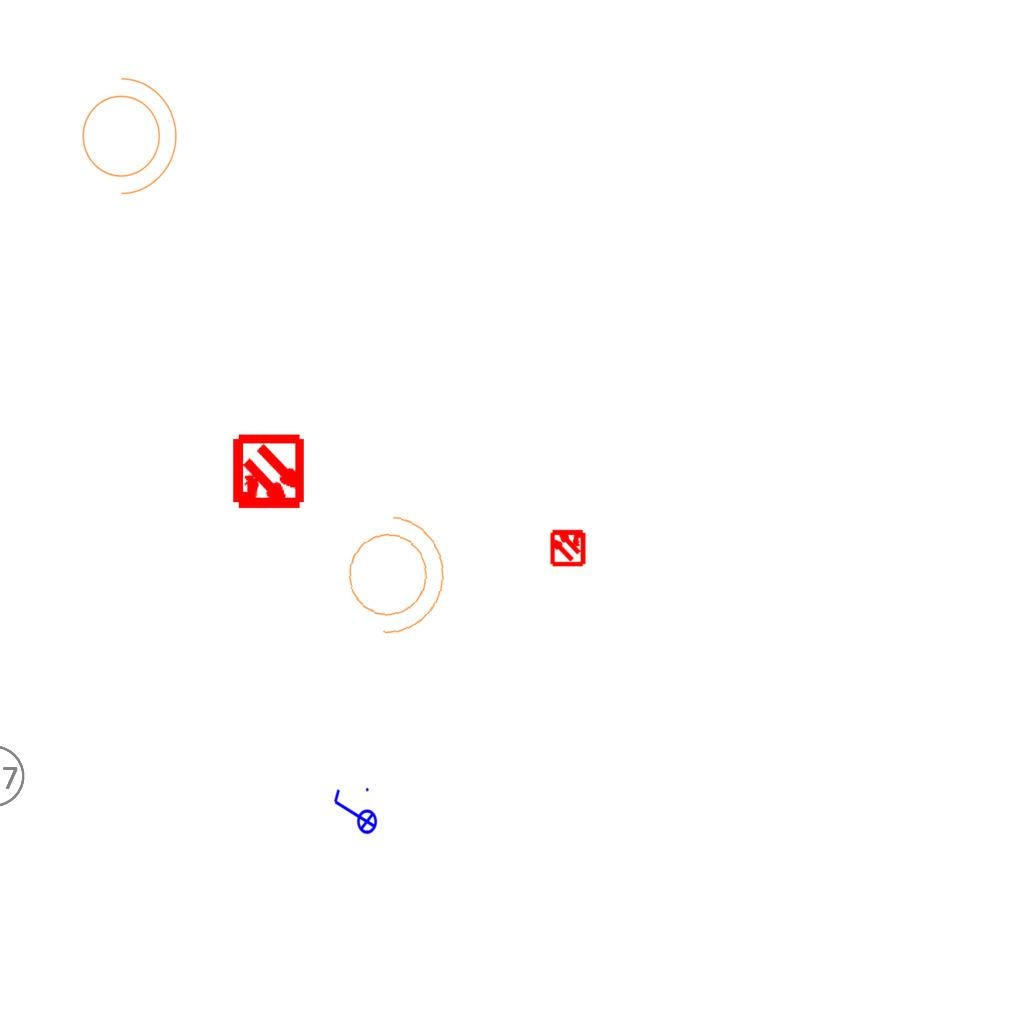Ausschalter_beleuchtet: (330, 785, 378, 841)
OT_Multisensormelder_(Kombination_RMO_WMD): (212, 417, 325, 530), (540, 519, 596, 575)
Scheinwerfer_fuer_Alarmbeleuchtung: (331, 501, 455, 643), (70, 67, 182, 199)
